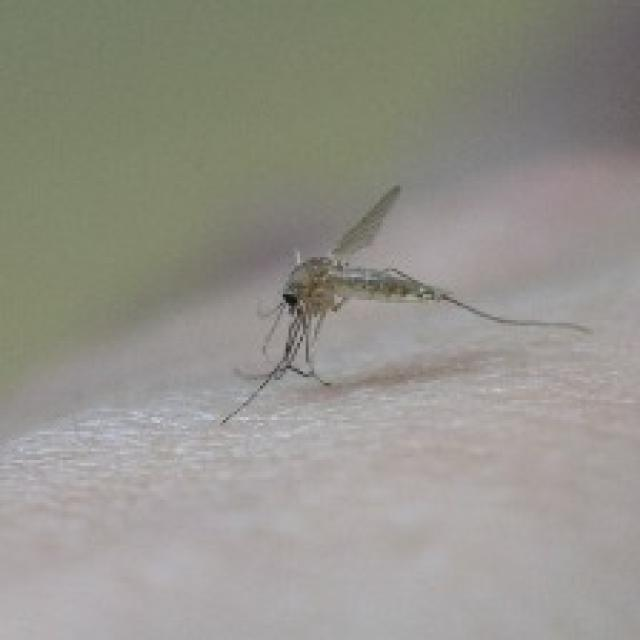culex: (217, 180, 592, 426)
